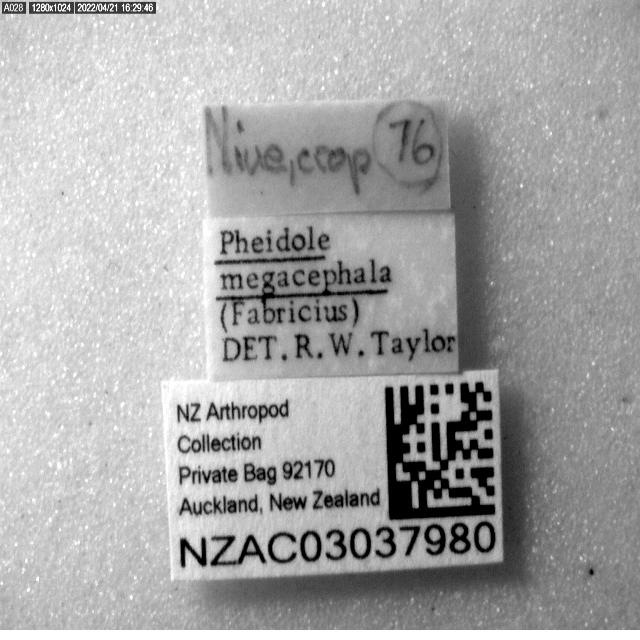hand_label: (204, 98, 450, 217)
typed_label: (162, 370, 502, 580), (204, 212, 459, 380)
